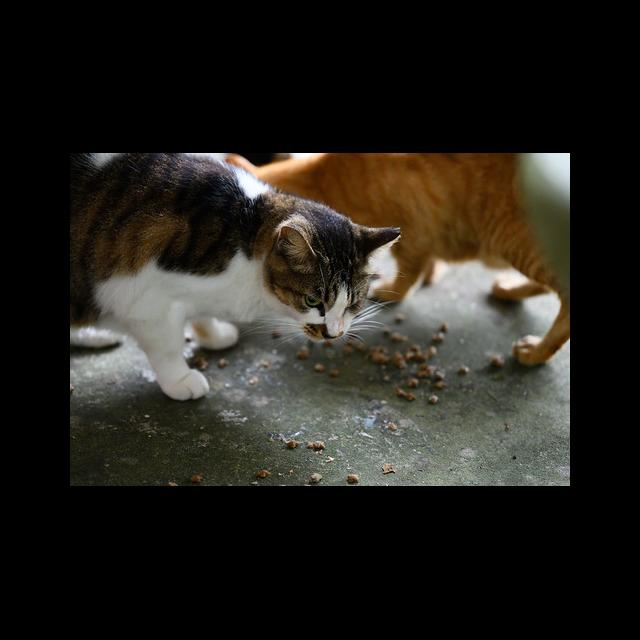animals: (72, 154, 401, 401), (223, 154, 570, 366)
